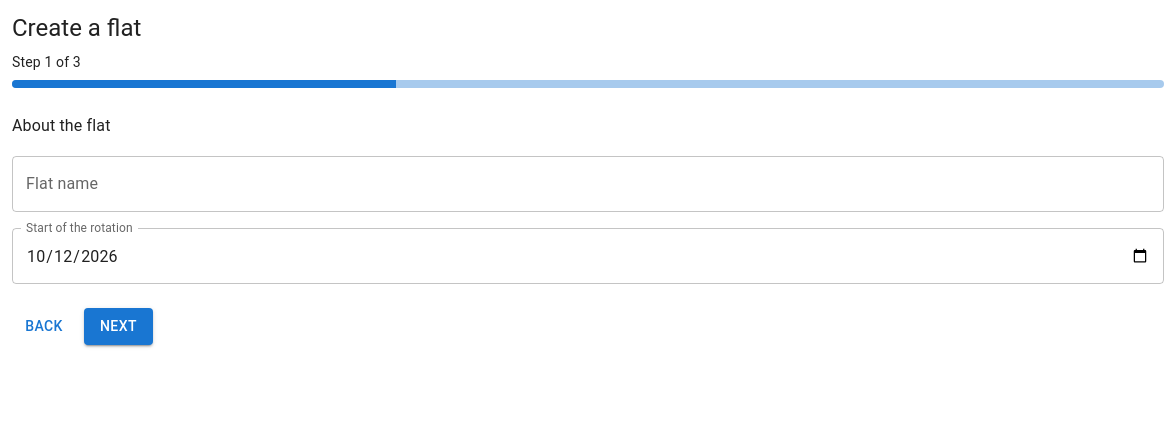
Test: CreateFlatForm › does not leave a step with problems, and says what is wrong
Click the button "Next". click: point(118, 326)
box: x1=84 y1=308 x2=153 y2=344
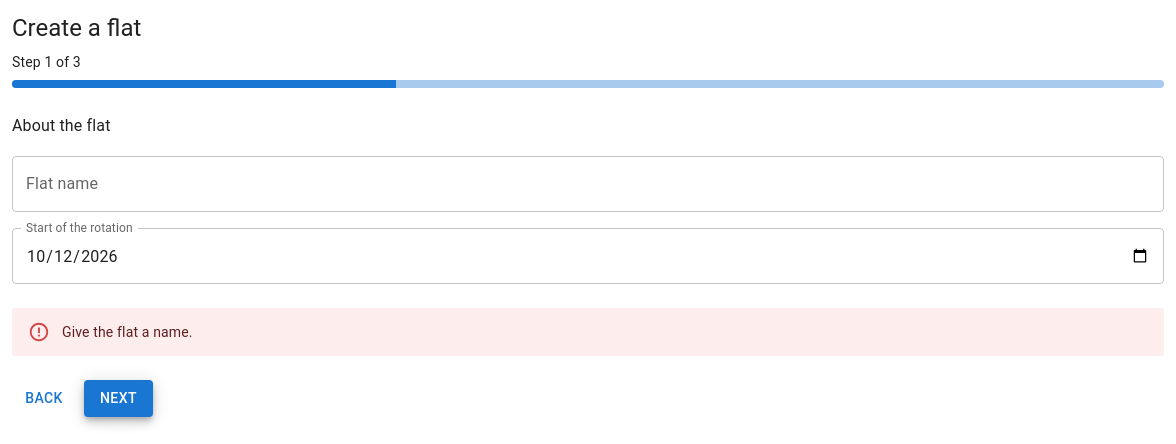
Expected: the text "Step 1 of 3" is shown, x1=12 y1=54 x2=81 y2=70
Expected: the text "Give the flat a name." is shown, x1=62 y1=322 x2=193 y2=342
